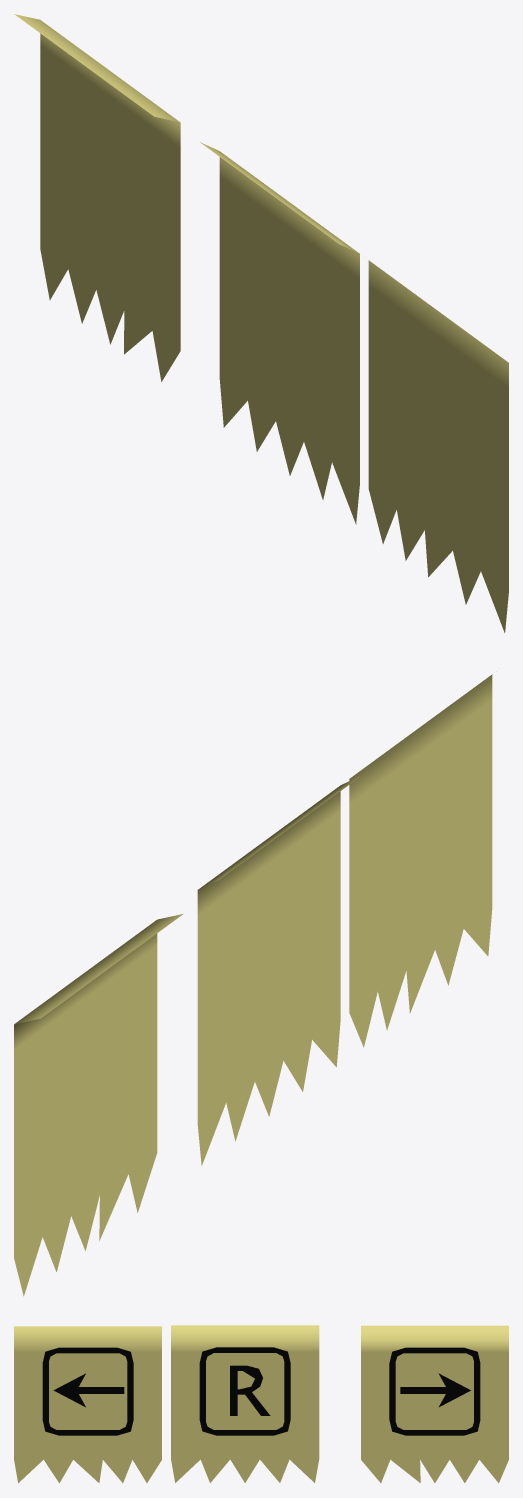
Rendered from tutorial.fbx.
3 views of the same model, one above another, from view 1: azimuth 30°, elevation 25°; view 2: azimuth 150°, elevation 25°; view 3: azimuth 270°, elevation 25° (orthographic). The views are drawn at different scales.
Parts seen in each view (by area): view 1: typeMesh5, typeMesh6, polySurface1; view 2: typeMesh5, typeMesh6, polySurface1; view 3: typeMesh6, typeMesh5, polySurface1.
Boxes of the visible parts, x1,y1,x2,y2 form: typeMesh5: (14, 14, 180, 381); typeMesh6: (200, 142, 359, 524); polySurface1: (368, 260, 508, 632); typeMesh5: (14, 914, 182, 1296); typeMesh6: (197, 776, 360, 1165); polySurface1: (349, 674, 492, 1047); typeMesh6: (171, 1325, 319, 1482); typeMesh5: (361, 1325, 508, 1482); polySurface1: (14, 1326, 161, 1483).
Size of the model in its own units: 0.219 by 2.09 by 6.12.
